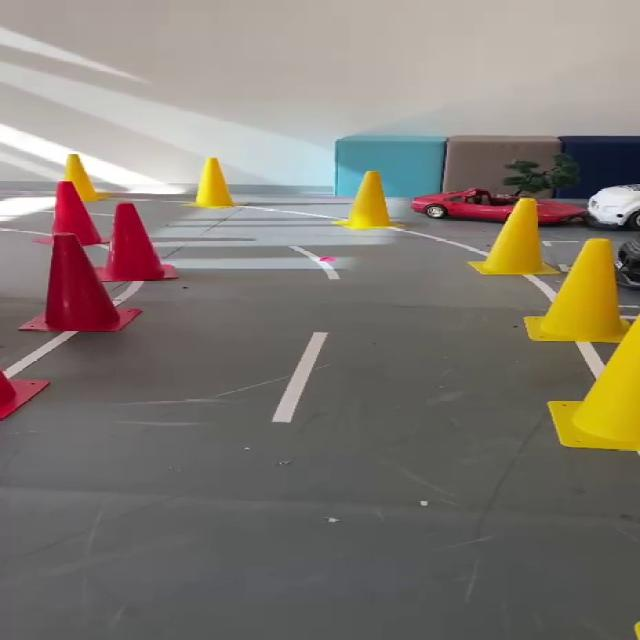Cone-red: (21, 234, 141, 331), (101, 203, 174, 281), (52, 181, 102, 246), (0, 369, 48, 420)
Cones-yellow: (549, 316, 639, 452), (524, 238, 628, 342), (469, 198, 559, 275), (334, 171, 399, 229), (0, 368, 47, 420), (63, 154, 108, 201), (192, 158, 233, 208)
